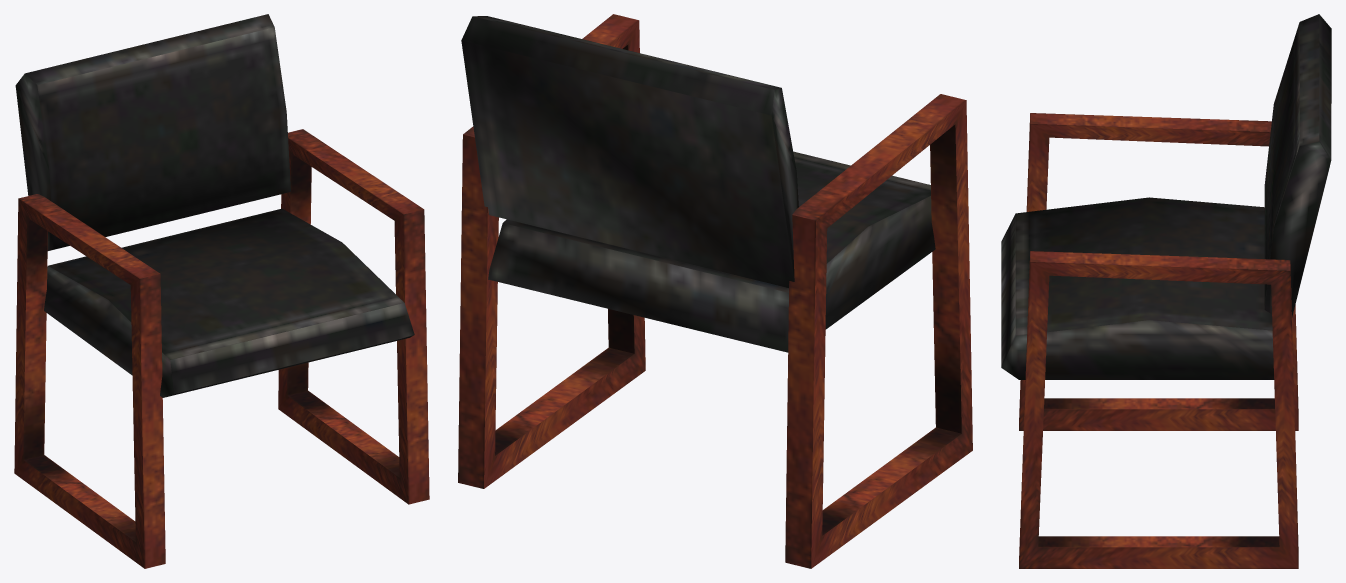
The model's file is chr_med_hi_blk.fbx.
The picture shows the model from 3 angles, left to right: view 1: azimuth 30°, elevation 25°; view 2: azimuth 150°, elevation 25°; view 3: azimuth 270°, elevation 25°; orthographic projection. The views are drawn at different scales.
Parts seen in each view (by area): view 1: mesh_0; view 2: mesh_0; view 3: mesh_0.
Boxes of the visible parts, x1,y1,x2,y2 form: mesh_0: (14, 14, 429, 568); mesh_0: (458, 14, 972, 568); mesh_0: (1001, 14, 1331, 568).
Size of the model in its own units: 68.06 by 88.69 by 63.81.
1 material, 1 textured.
